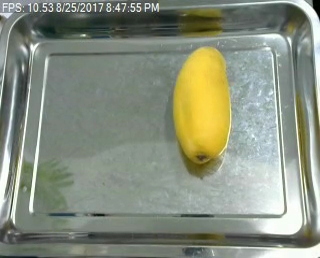Mango: (168, 46, 237, 164)
